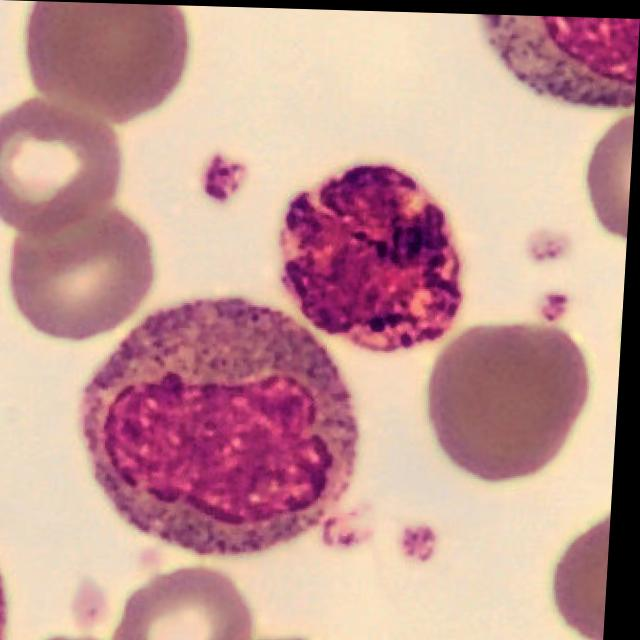Metamielocito: (84, 297, 366, 557)
